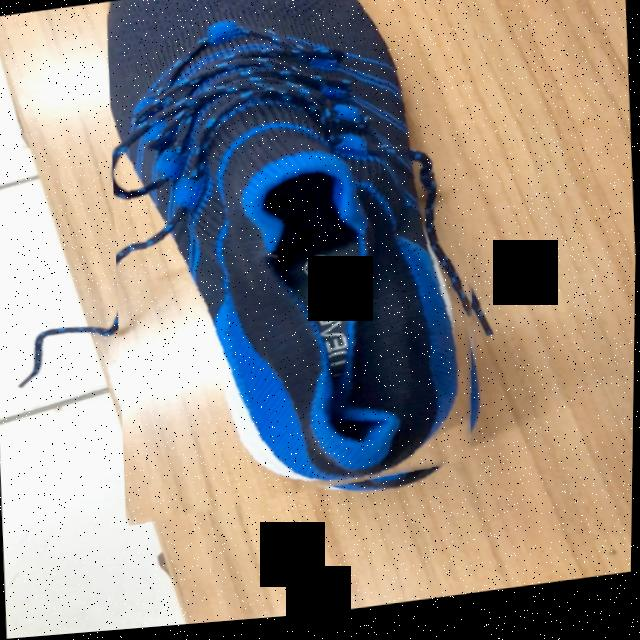shoe: (110, 0, 477, 492)
